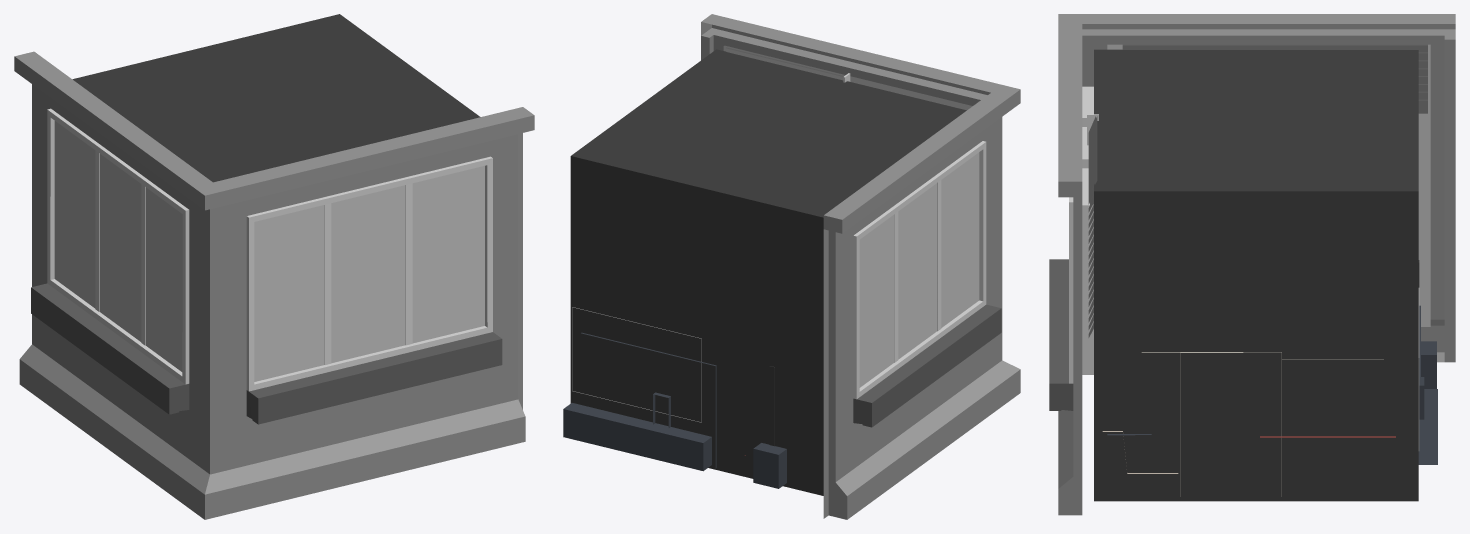
File: Wall_10_Fake_Interior_Corner.FBX
3 renders of one model, left to right at view 1: azimuth 30°, elevation 25°; view 2: azimuth 150°, elevation 25°; view 3: azimuth 270°, elevation 25°, orthographic. The views are drawn at different scales.
Parts seen in each view (by area): view 1: Wall_10_Fake_Interior_Corner_LOD0; view 2: Wall_10_Fake_Interior_Corner_LOD0, Wall_10_Fake_Interior_B, Wall_10_Fake_Interior_C, Wall_10_Blind_02_LOD0; view 3: Wall_10_Fake_Interior_Corner_LOD0, Wall_10_Blind_01_LOD0, Wall_10_Fake_Interior_B, Wall_10_Blind_02_LOD0, Wall_10_Fake_Interior_C, Wall_10_Fake_Interior_A.
Part boxes in pixels (x1,y1,x2,y2): Wall_10_Fake_Interior_Corner_LOD0: (14,14,534,519); Wall_10_Fake_Interior_Corner_LOD0: (570,14,1020,519); Wall_10_Fake_Interior_B: (563,403,711,471); Wall_10_Fake_Interior_C: (581,332,786,488); Wall_10_Blind_02_LOD0: (725,47,850,82); Wall_10_Fake_Interior_Corner_LOD0: (1049,14,1455,515); Wall_10_Blind_01_LOD0: (1122,44,1427,113); Wall_10_Fake_Interior_B: (1107,352,1437,496); Wall_10_Blind_02_LOD0: (1087,114,1098,337); Wall_10_Fake_Interior_C: (1141,260,1436,437); Wall_10_Fake_Interior_A: (1102,288,1419,473).
Size of what is drawn, in the model's own units: 196 by 180 by 196.
